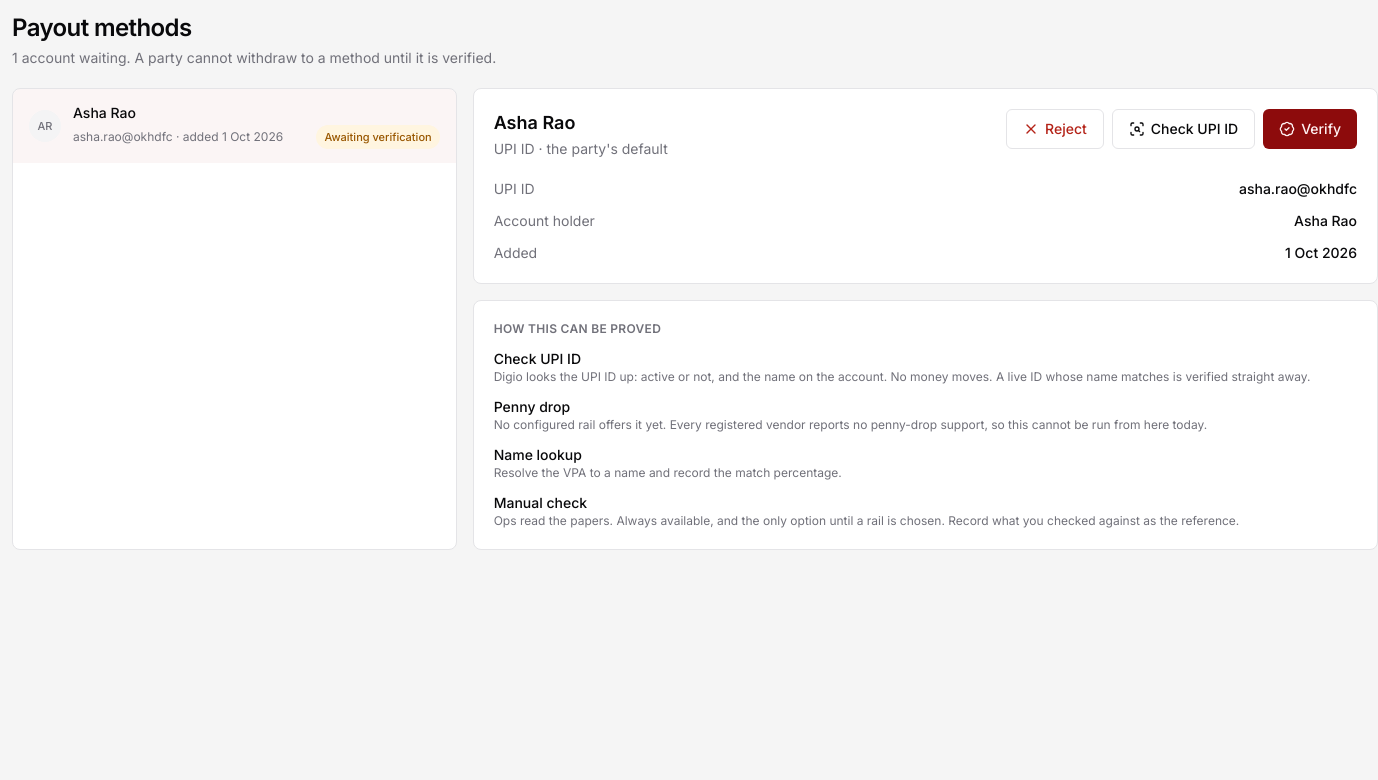
Check UPI ID › verifies a live, matching UPI ID and says whose it is
Click the button "Check UPI ID" at (1184, 129), box [1112, 109, 1255, 149]
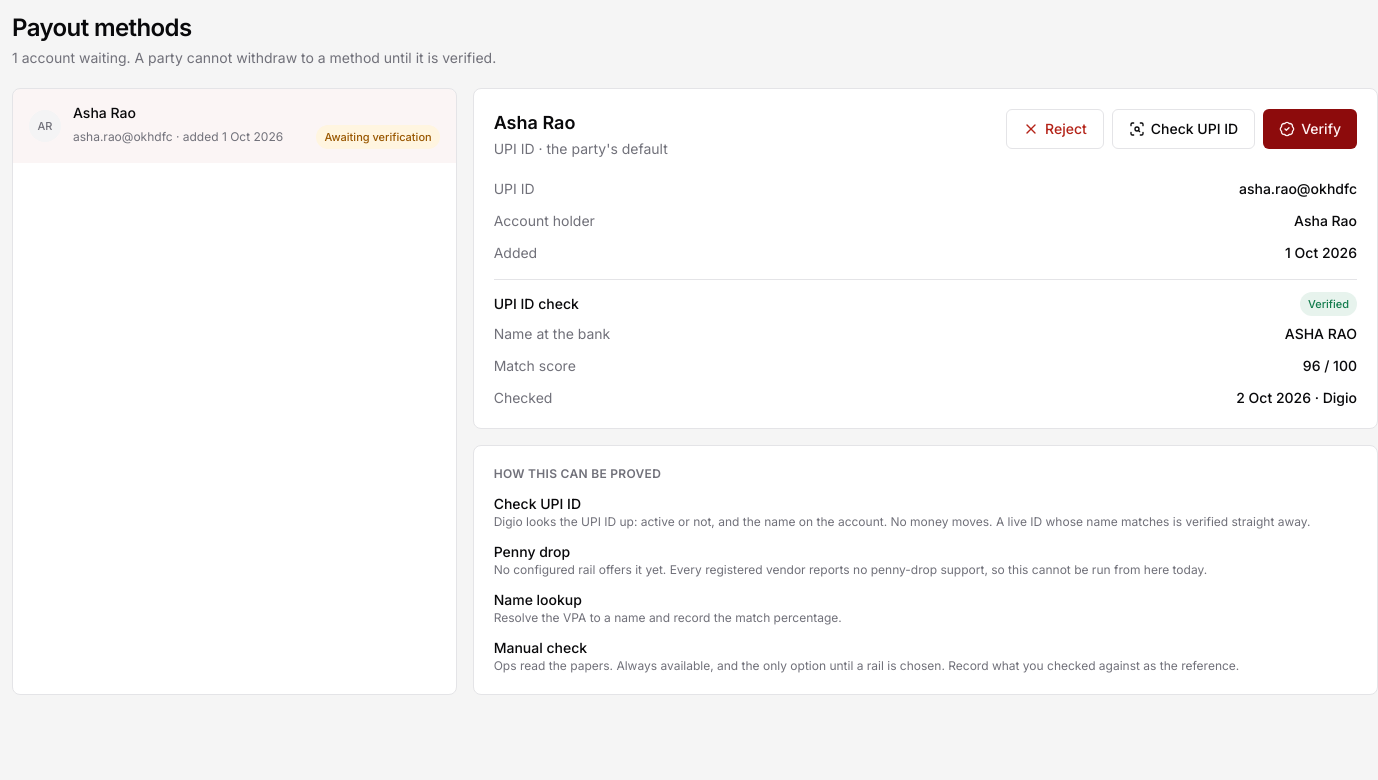
Now the text "Verified" is shown, box [1300, 292, 1357, 316]
Now the text "ASHA RAO" is shown, box [1285, 324, 1357, 344]
Now the text "96 / 100" is shown, box [1303, 356, 1357, 376]
